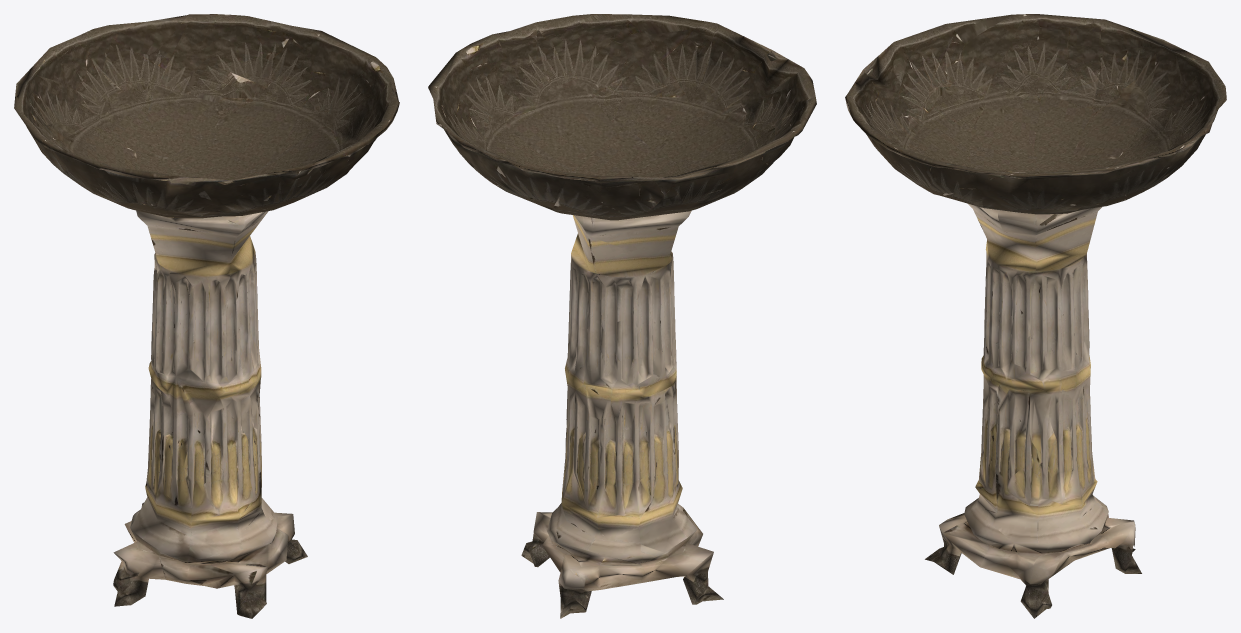
Rendered from brasero.glb.
The picture shows the model from 3 angles, left to right: view 1: azimuth 30°, elevation 25°; view 2: azimuth 150°, elevation 25°; view 3: azimuth 270°, elevation 25°; orthographic projection. The views are drawn at different scales.
Size of the model in its own units: 1.38 by 1.9 by 1.38.
1 material, 1 textured.
